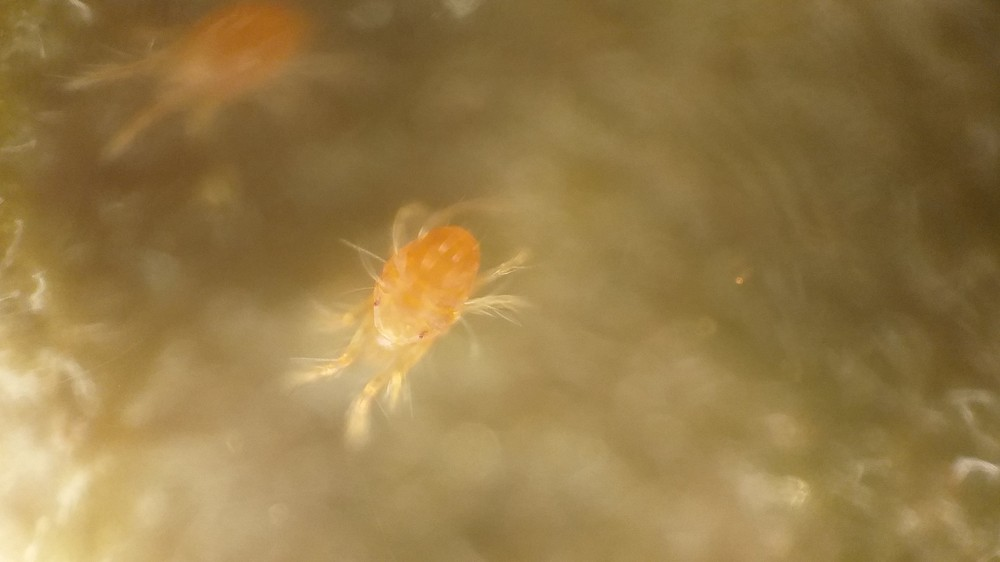Aracnido Rojo: (259, 172, 544, 439)
